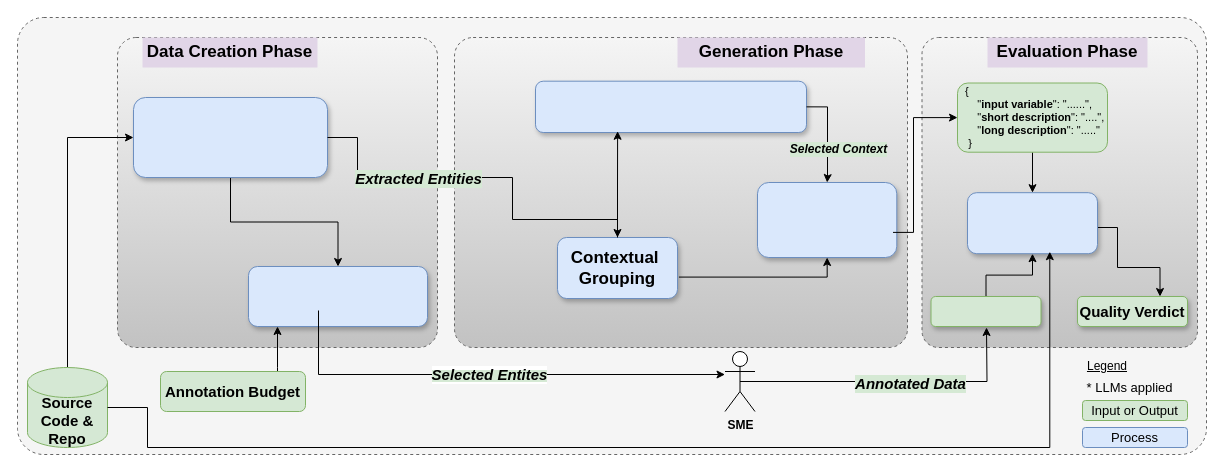
Some shapes in this 1224 by 473 pixel diagram are drawn without their labels. Here are the shapes that lost their labels. From the top down, the centre of each, then its label:
At pixel 671 108: "Context Gathering".
At pixel 231 138: "Code Entity Extraction with Static Analysis".
At pixel 827 221: "Variable Vocabulary Creation*".
At pixel 1033 224: "Agentic Evaluation*".
At pixel 339 298: "Subset Selection For Evaluation*".
At pixel 986 313: "Evaluation Data".
